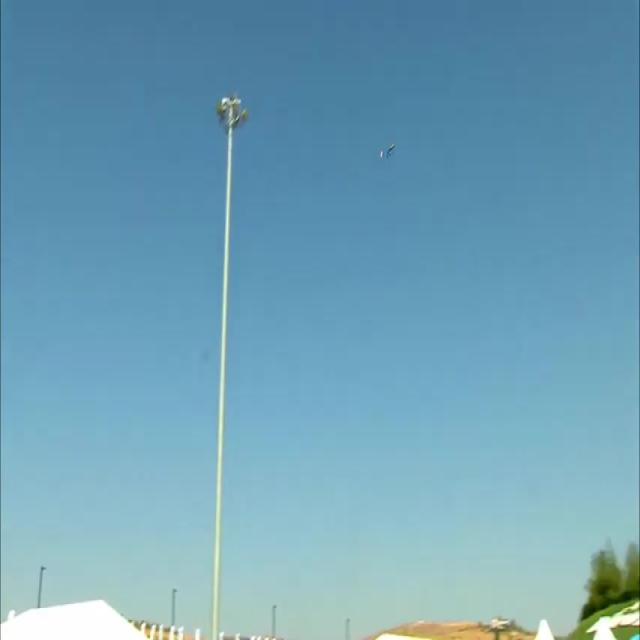iha: (380, 142, 396, 161)
